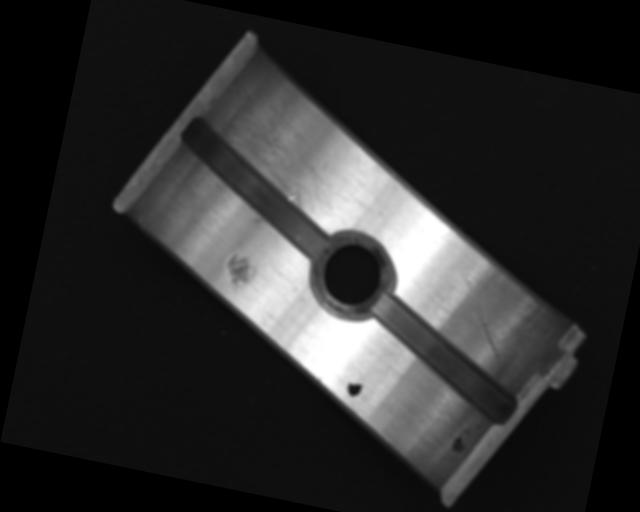blot: (451, 428, 470, 456), (345, 375, 364, 399)
bruise: (221, 252, 255, 296)
gap: (162, 115, 346, 262), (355, 291, 532, 427)
hole: (305, 227, 399, 327)
nick: (446, 273, 517, 365)
scratch: (209, 97, 347, 229)
